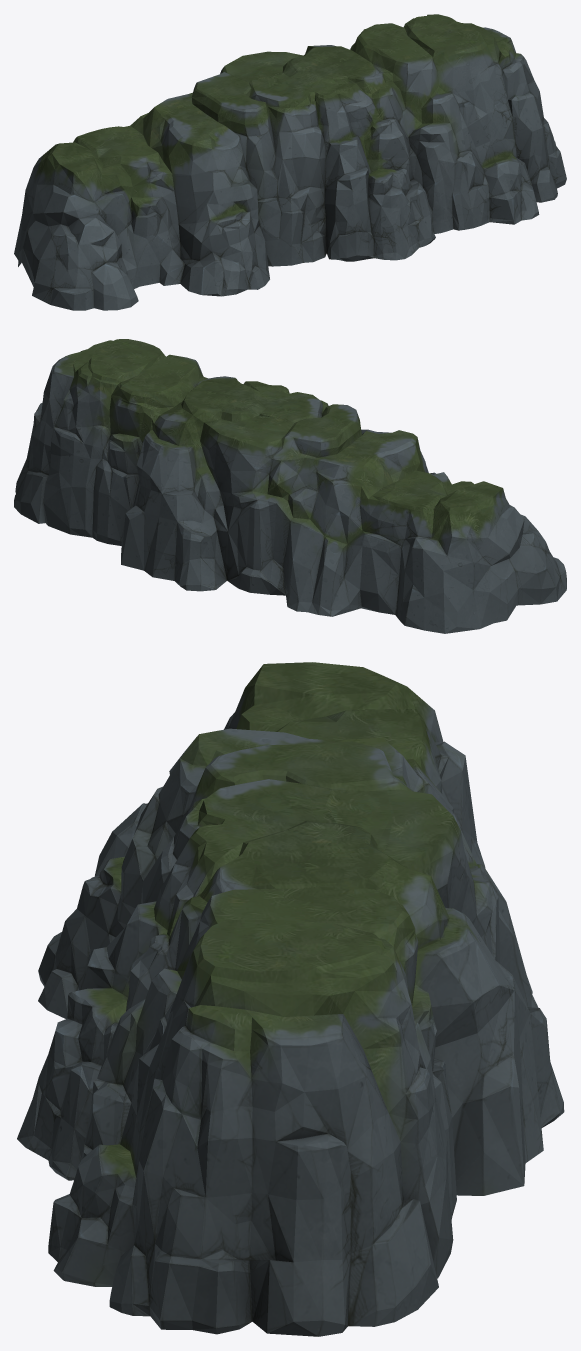
File: sc_qqnm_wj003_um.FBX
3 renders of one model, top to bottom at view 1: azimuth 30°, elevation 25°; view 2: azimuth 150°, elevation 25°; view 3: azimuth 270°, elevation 25°, orthographic. The views are drawn at different scales.
Parts seen in each view (by area): view 1: qqnm_wj003; view 2: qqnm_wj003; view 3: qqnm_wj003.
Boxes of the visible parts, x1,y1,x2,y2 form: qqnm_wj003: (14, 14, 566, 310); qqnm_wj003: (14, 339, 566, 633); qqnm_wj003: (17, 662, 564, 1336).
Size of the model in its own units: 2822 by 774 by 1285.
1 material, 1 textured.
